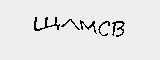В: (110, 17, 127, 40)
Л: (61, 18, 80, 30)
М: (78, 18, 98, 35)
С: (96, 17, 111, 37)
Щ: (32, 14, 59, 32)
